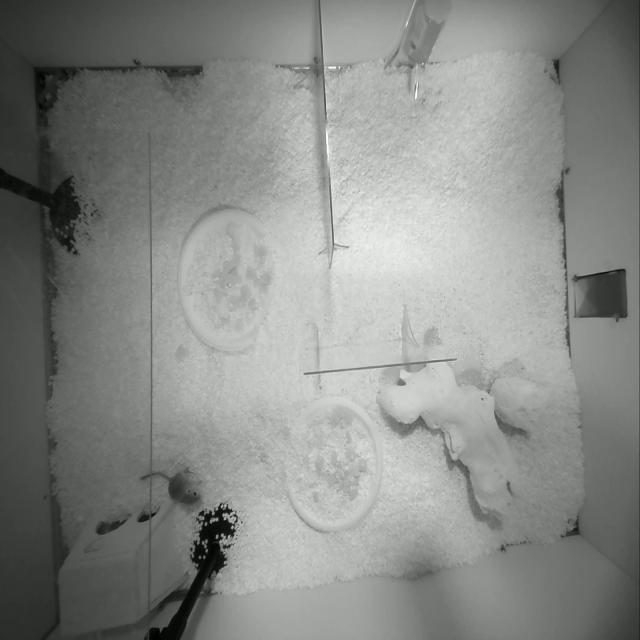pup_fluffy: (141, 471, 200, 503)
